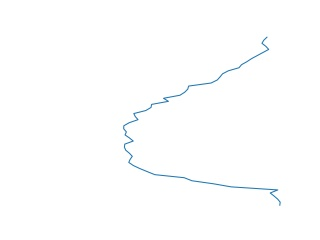underwaterDistributaryChannel: (117, 38, 287, 204)
